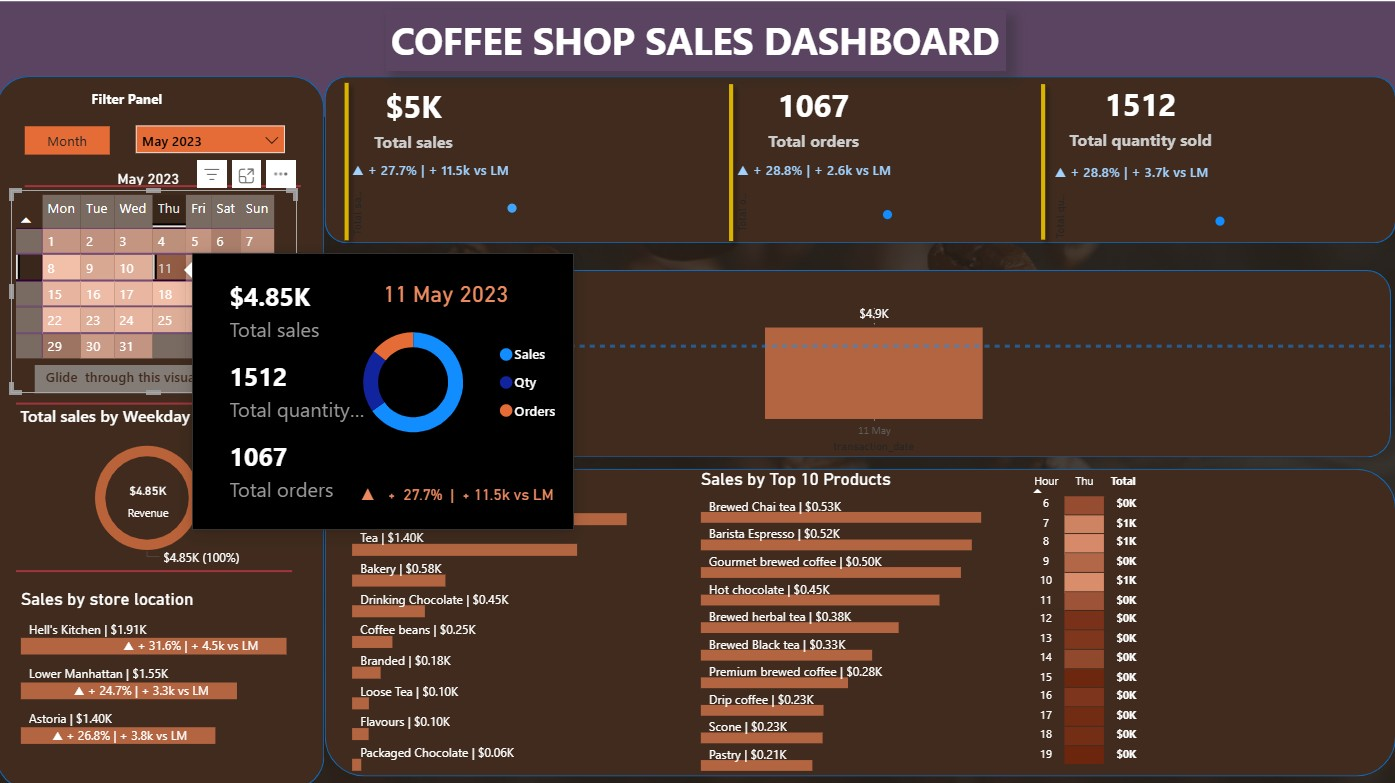

The page's visual inventory and layout, read from the dashboard file:
{"tool":"powerbi","page":{"name":"Page 1","canvas":[1383,858],"ordinal":0},"visuals":[{"type":"shape","box":[0,35.6,1383.3,114.2],"z":0},{"type":"shape","box":[231.1,107.9,230.9,173.5],"z":0,"group":"g4"},{"type":"shape","box":[604,108.9,244.6,173],"z":0,"group":"g5"},{"type":"shape","box":[882.2,109.4,305.5,171.7],"z":0,"group":"g6"},{"type":"shape","box":[0,105.4,324.4,709.6],"z":1000},{"type":"lineChart","fields":{"Category":["Date table.Date.Variation.Date Hierarchy.Year","Date table.Date.Variation.Date Hierarchy.Quarter","Date table.Date.Variation.Date Hierarchy.Month","Date table.Date.Variation.Date Hierarchy.Day"],"Y":["Transactions.Total orders"]},"box":[727,192.6,289.4,78.2],"z":1000,"group":"g5"},{"type":"lineChart","fields":{"Category":["Date table.Date.Variation.Date Hierarchy.Year","Date table.Date.Variation.Date Hierarchy.Quarter","Date table.Date.Variation.Date Hierarchy.Month","Date table.Date.Variation.Date Hierarchy.Day"],"Y":["Transactions.Total sales"]},"box":[347.3,193.2,308.2,79.7],"z":1000,"group":"g4"},{"type":"lineChart","fields":{"Category":["Date table.Date.Variation.Date Hierarchy.Year","Date table.Date.Variation.Date Hierarchy.Quarter","Date table.Date.Variation.Date Hierarchy.Month","Date table.Date.Variation.Date Hierarchy.Day"],"Y":["Transactions.Total QUANTITY SOLD"]},"box":[1041.4,195.3,319,81.1],"z":1000,"group":"g6"},{"type":"shape","box":[324.4,109.5,1058.3,164.9],"z":2000},{"type":"textbox","box":[526.6,36,442.6,60],"z":3000},{"type":"card","fields":{"Values":["Transactions.Total QUANTITY SOLD"]},"box":[1048.6,105.4,180.2,102.3],"z":4000,"group":"g3"},{"type":"card","fields":{"Values":["Transactions.Total orders"]},"box":[736.7,106.8,158.6,102.3],"z":4000,"group":"g2"},{"type":"card","fields":{"Values":["Transactions.Total sales"]},"box":[341,108.2,158.6,102.3],"z":4000,"group":"g1"},{"type":"slicer","fields":{"Values":["Date table.Month Year"]},"box":[133.8,148.7,156.8,62.2],"z":4000},{"type":"group","id":"g1","title":"Group 2","box":[231.1,107.9,424.3,173.5],"z":5000},{"type":"group","id":"g2","title":"Group 2","box":[604,106.8,412.4,175.1],"z":6000},{"type":"group","id":"g3","title":"Group 2","box":[882.2,105.4,478.2,175.7],"z":7000},{"type":"pivotTable","fields":{"Rows":["Date table.Week Number"],"Columns":["Date table.Day name"],"Values":["Min(Date table.Day Number)"]},"box":[14.9,221.7,282.5,201.4],"z":8000},{"type":"group","id":"g4","title":"Group 1","box":[231.1,107.9,424.3,173.5],"z":9000,"group":"g1"},{"type":"group","id":"g5","title":"Group 1","box":[604,108.9,412.4,173],"z":9000,"group":"g2"},{"type":"group","id":"g6","title":"Group 1","box":[882.2,109.4,478.2,171.7],"z":9000,"group":"g3"},{"type":"card","fields":{"Values":["Transactions.Foot Note"]},"box":[37.8,394.7,243.3,28.4],"z":9000},{"type":"card","fields":{"Values":["Min(Date table.Month Year)"]},"box":[106.8,197.3,85.2,24.3],"z":10000},{"type":"shape","box":[20.3,406.8,273,54.1],"z":11000},{"type":"shape","box":[28.4,191.9,273,54.1],"z":12000},{"type":"donutChart","fields":{"Category":["Date table.Weekday / Weekend"],"Y":["Transactions.Total sales"]},"box":[6.8,433.9,286.5,164.9],"z":13000},{"type":"card","fields":{"Values":["Transactions.Total sales"]},"box":[89.2,486.6,123,82.4],"z":14000},{"type":"shape","box":[20.3,571.7,273,54.1],"z":15000},{"type":"clusteredBarChart","title":"Sales by store location ","fields":{"Category":["Transactions.store_location"],"Y":["Transactions.placeholder","Transactions.Total sales"]},"box":[20.3,616.3,293.3,160.8],"z":16000},{"type":"shape","box":[320.3,301.4,1058.3,185.2],"z":17000},{"type":"clusteredColumnChart","title":"Sales trends over the period  ","fields":{"Category":["Transactions.transaction_date"],"Y":["Transactions.Total sales"]},"box":[324.4,301.4,1058.3,185.2],"z":18000},{"type":"shape","box":[324.4,497.4,1058.3,304.1],"z":19000},{"type":"clusteredBarChart","title":"Sales by store location ","fields":{"Y":["Transactions.placeholder","Transactions.Total sales"],"Category":["Transactions.product_category"]},"box":[347.4,497.4,316.3,304.1],"z":21000},{"type":"clusteredBarChart","title":"Sales by store location ","fields":{"Y":["Transactions.placeholder","Transactions.Total sales"],"Category":["Transactions.product_type"]},"box":[692,497.4,314.9,304.1],"z":22000},{"type":"pivotTable","fields":{"Rows":["Transactions.Hour"],"Columns":["Date table.Day name"],"Values":["Transactions.Total sales"]},"box":[1015.1,497.4,367.6,304.1],"z":23000},{"type":"textbox","box":[28.4,159.5,83.8,28.4],"z":24000},{"type":"textbox","box":[70.3,118.9,121.6,29.7],"z":25000}]}

Visuals, with their boxes on the page's 1383x858 design canvas (x1, y1, x2, y2). These are canvas units, not pixel positions in the 1395x783 screenshot, which may show the page scaled, cropped or inside an application window:
shape: 0/36/1383/150
shape: 231/108/462/281
shape: 604/109/849/282
shape: 882/109/1188/281
shape: 0/105/324/815
lineChart - Date table.Date.Variation.Date Hierarchy.Year x Date table.Date.Variation.Date Hierarchy.Quarter: 727/193/1016/271
lineChart - Date table.Date.Variation.Date Hierarchy.Year x Date table.Date.Variation.Date Hierarchy.Quarter: 347/193/656/273
lineChart - Date table.Date.Variation.Date Hierarchy.Year x Date table.Date.Variation.Date Hierarchy.Quarter: 1041/195/1360/276
shape: 324/110/1383/274
textbox: 527/36/969/96
card - Transactions.Total QUANTITY SOLD: 1049/105/1229/208
card - Transactions.Total orders: 737/107/895/209
card - Transactions.Total sales: 341/108/500/210
slicer - Date table.Month Year: 134/149/291/211
"Group 2" group: 231/108/655/281
"Group 2" group: 604/107/1016/282
"Group 2" group: 882/105/1360/281
pivotTable - Date table.Week Number x Date table.Day name: 15/222/297/423
"Group 1" group: 231/108/655/281
"Group 1" group: 604/109/1016/282
"Group 1" group: 882/109/1360/281
card - Transactions.Foot Note: 38/395/281/423
card - Min(Date table.Month Year): 107/197/192/222
shape: 20/407/293/461
shape: 28/192/301/246
donutChart - Date table.Weekday / Weekend x Transactions.Total sales: 7/434/293/599
card - Transactions.Total sales: 89/487/212/569
shape: 20/572/293/626
"Sales by store location " clusteredBarChart: 20/616/314/777
shape: 320/301/1379/487
"Sales trends over the period  " clusteredColumnChart: 324/301/1383/487
shape: 324/497/1383/802
"Sales by store location " clusteredBarChart: 347/497/664/802
"Sales by store location " clusteredBarChart: 692/497/1007/802
pivotTable - Transactions.Hour x Date table.Day name: 1015/497/1383/802
textbox: 28/160/112/188
textbox: 70/119/192/149
